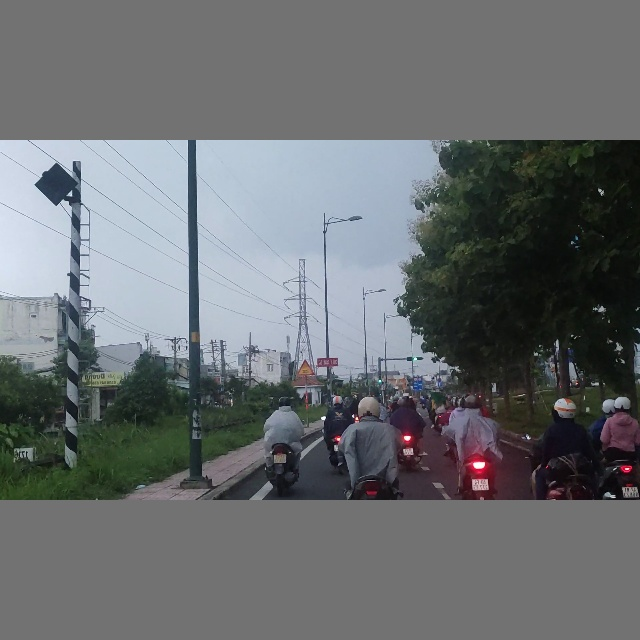W.210: (297, 359, 315, 376)
